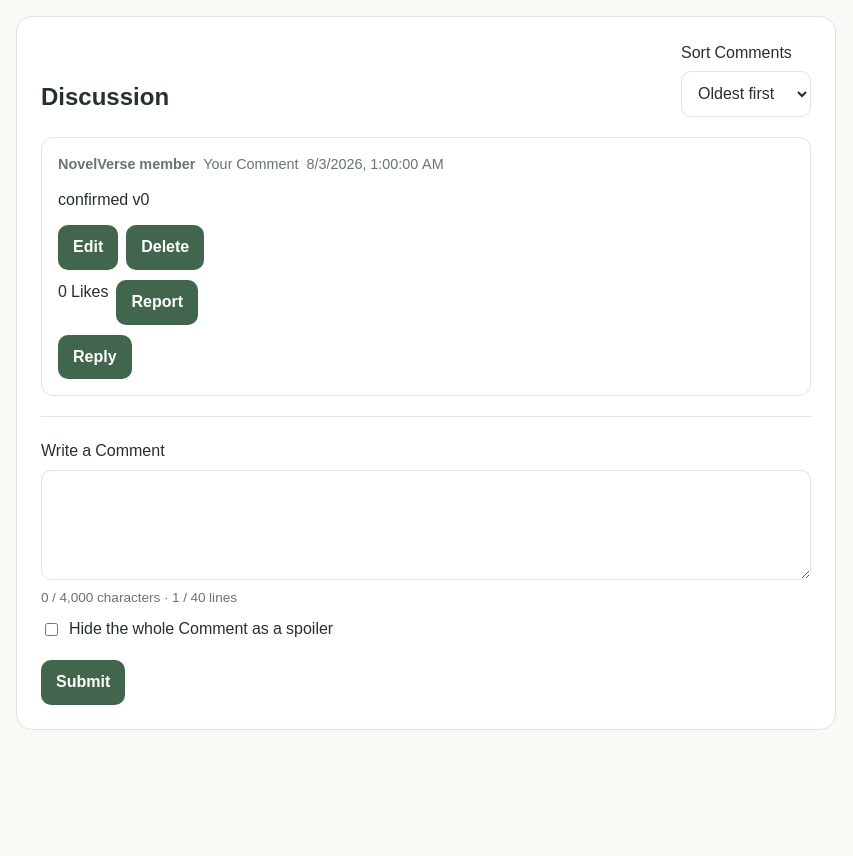
Test: DiscussionPanel capabilities and accessibility › reconciles one stale edit from server truth and keeps the last projection visible
Step 1. Click the button "Edit" → (88, 247), box [58,225,118,270]
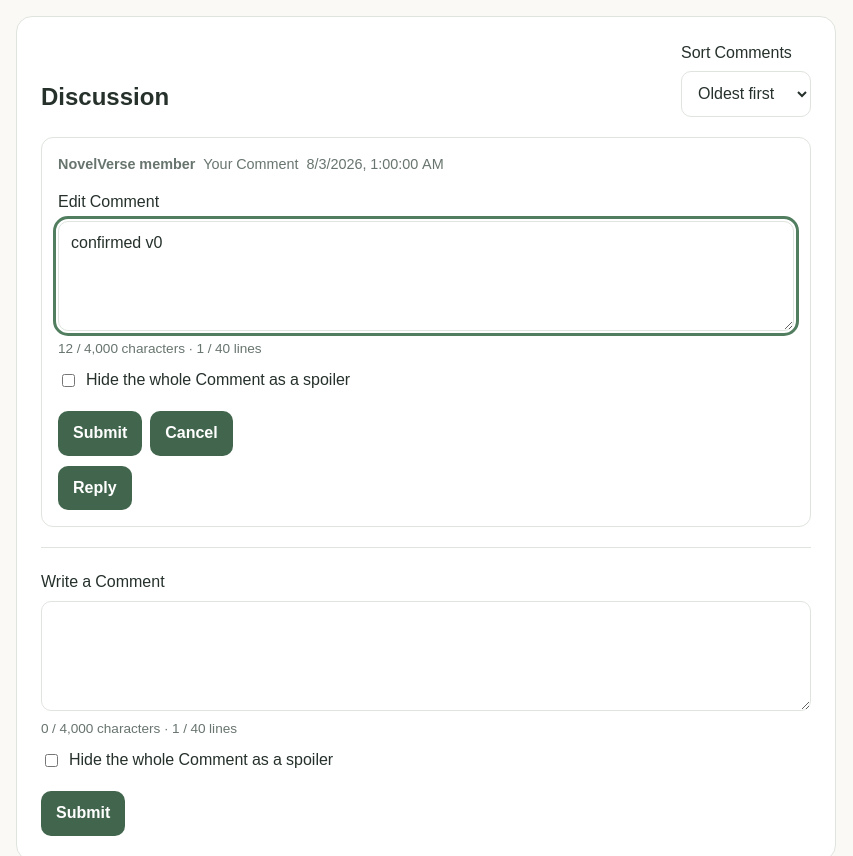
Step 2. Replace the text in the text box labelled "Edit Comment" with "stale body" → (426, 276), box [58,221,794,331]
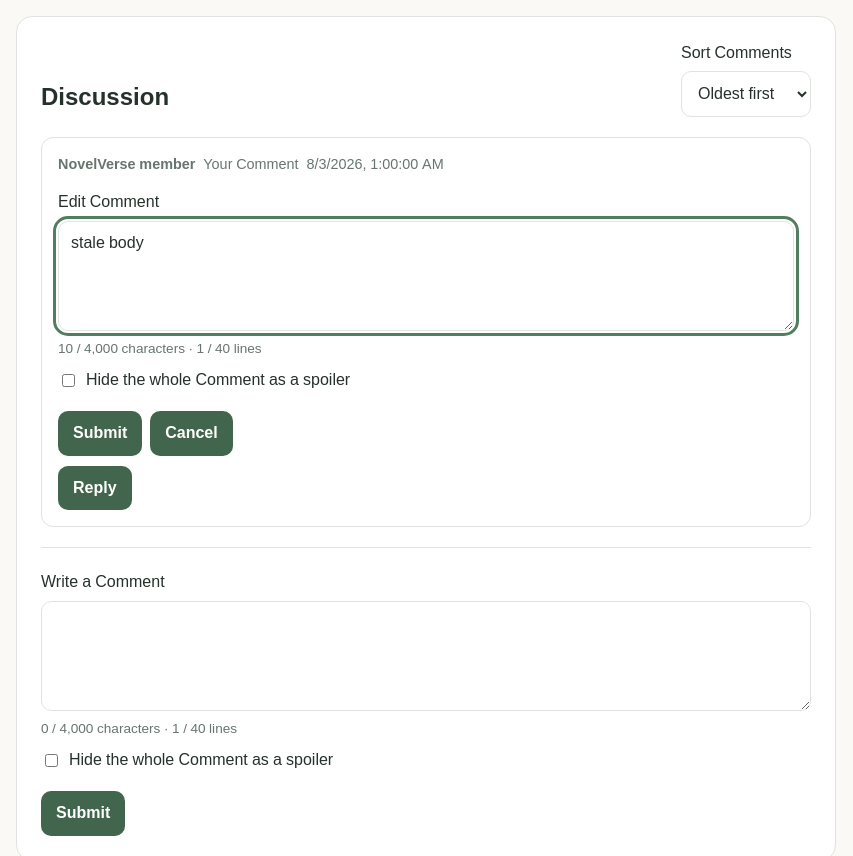
Step 3. Submit the form "Edit Comment", box [58,190,794,456]
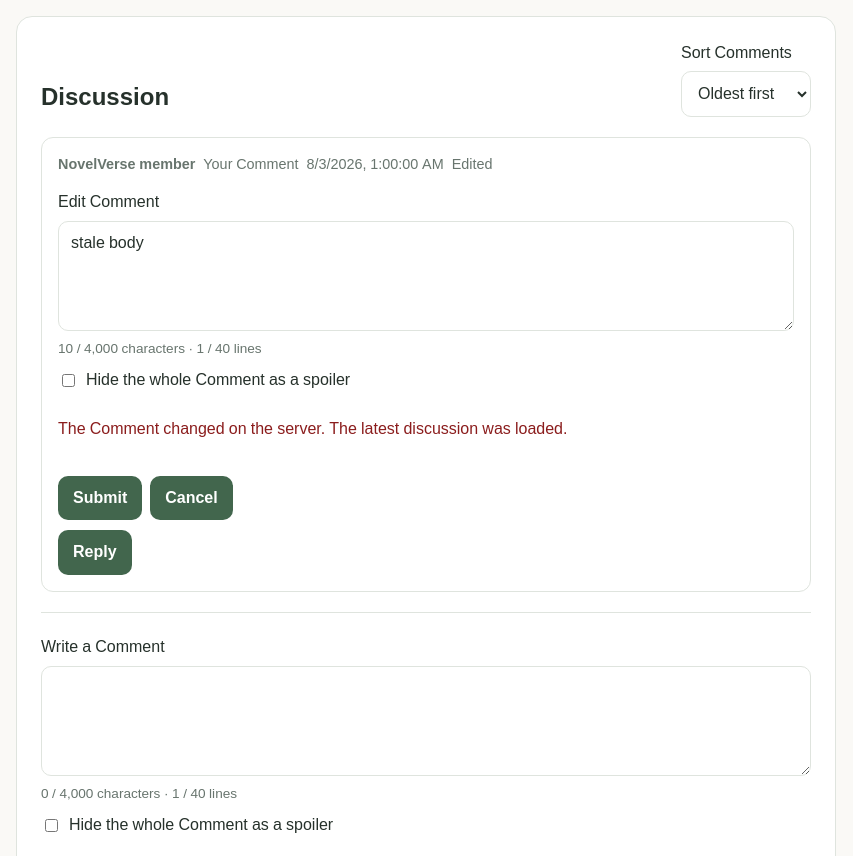
Expected: the message shows "changed on the server", [58,417,567,441]
Step 4. Click the button "Cancel" → (191, 498), box [150,476,233,520]
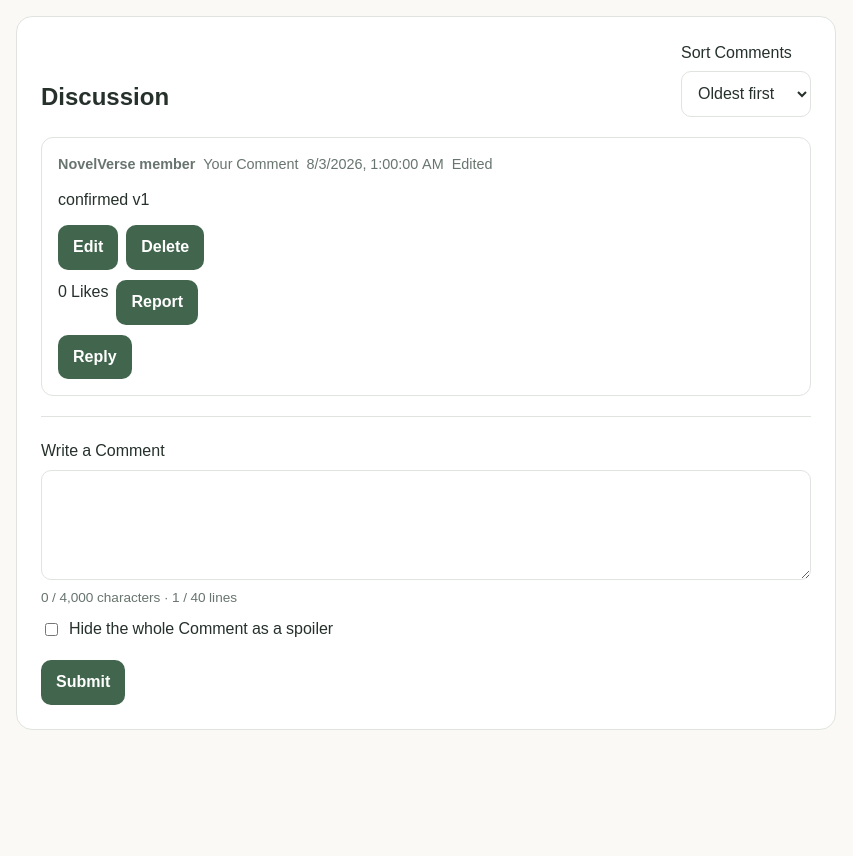
Expected: the text "confirmed v1" is shown, [58,188,149,212]
